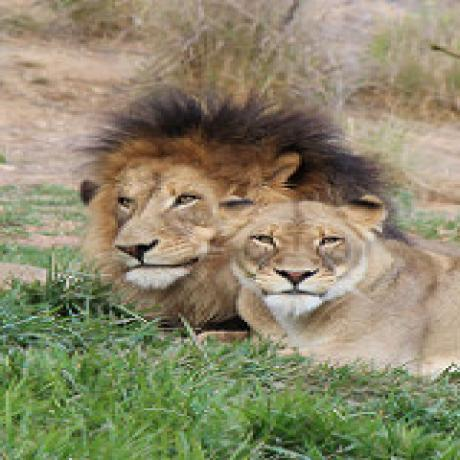Lion: (56, 80, 273, 317), (212, 195, 460, 385)
